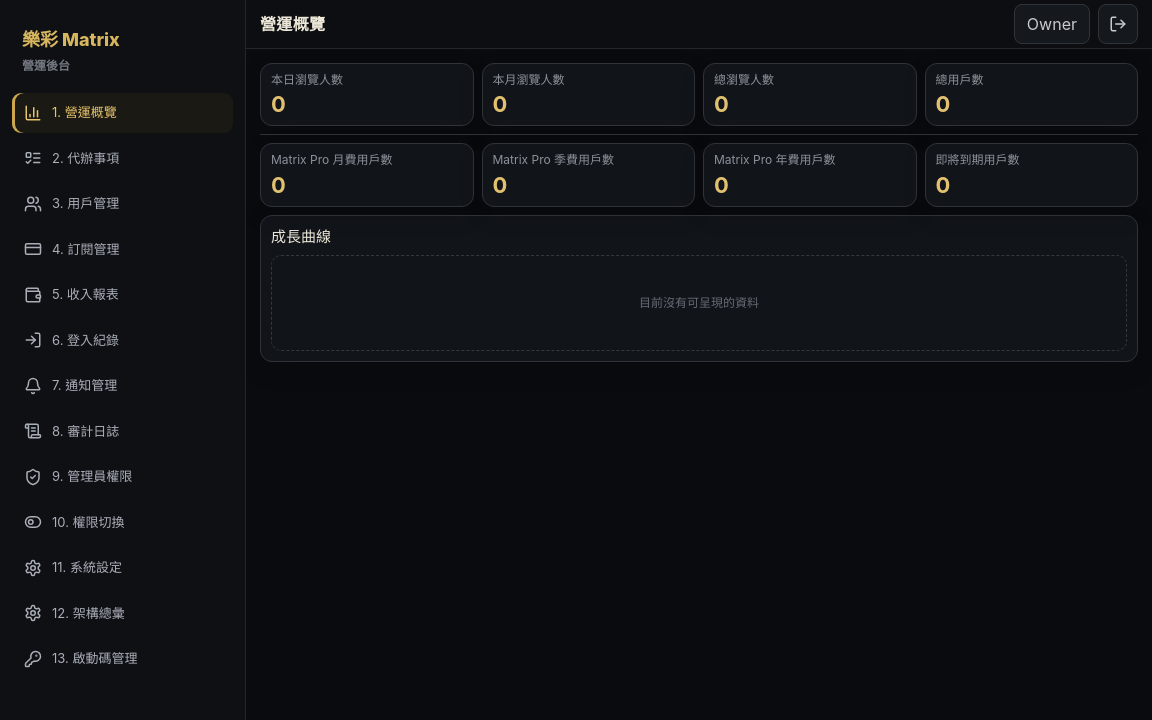
Scenario: AdminApp weak-network bootstrap › shows member name without exposing LINE/Google ID in user management
Click the button "3. 用戶管理" at (122, 204), box [12,184,233,224]
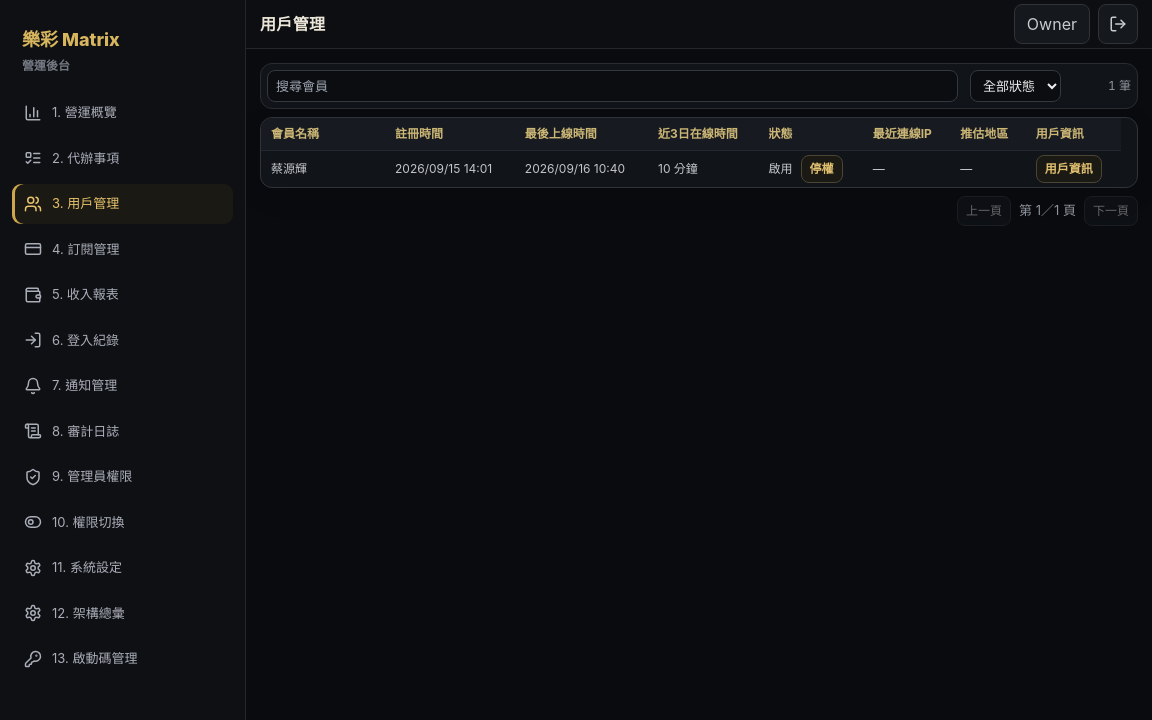
expect the column heading "會員名稱" is shown: met, box [261,118,385,150]
expect the text "蔡源輝" is shown: met, box [261,150,385,187]
